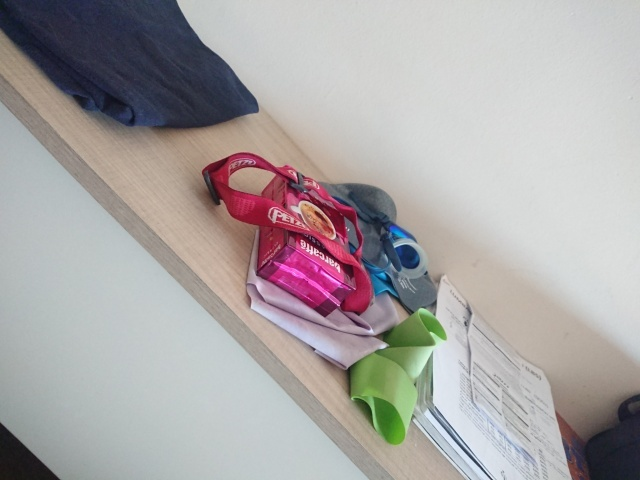Barcaffe Classic Original 225g: (253, 163, 359, 320)
